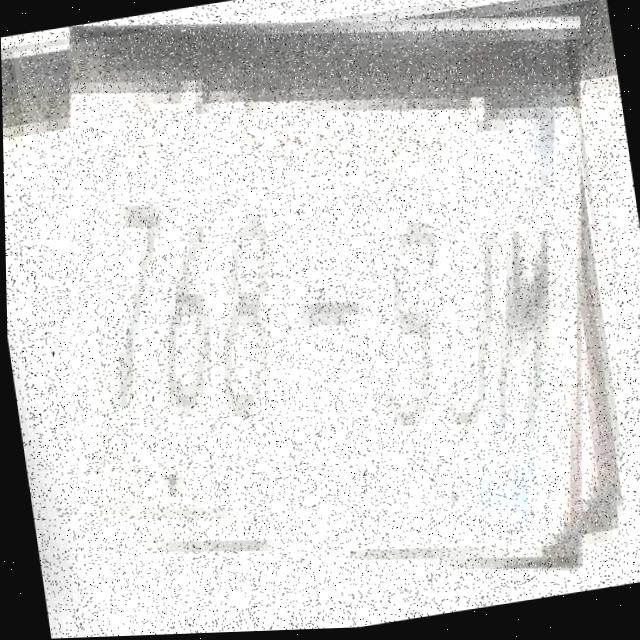LicensePlate: (11, 0, 636, 634)
